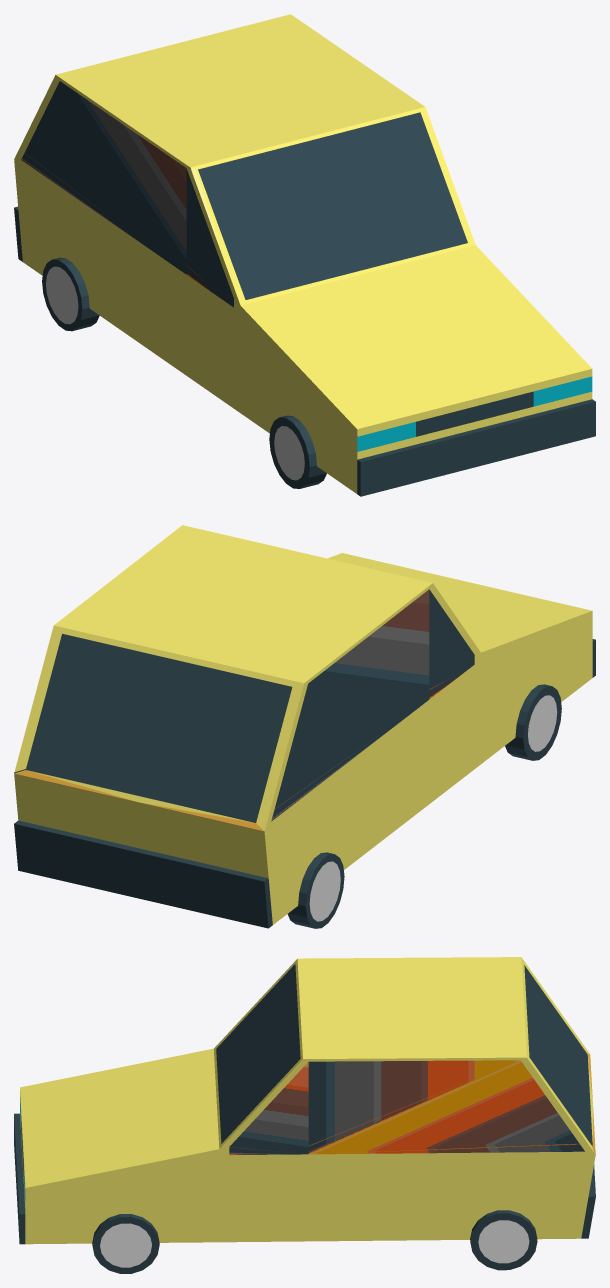
The model's file is car_anim.obj.
The picture shows the model from 3 angles, top to bottom: view 1: azimuth 30°, elevation 25°; view 2: azimuth 150°, elevation 25°; view 3: azimuth 270°, elevation 25°; orthographic projection. The views are drawn at different scales.
Parts seen in each view (by area): view 1: car1; view 2: car1; view 3: car1.
Boxes of the visible parts, x1,y1,x2,y2 form: car1: (14,14,595,496); car1: (14,525,595,928); car1: (14,957,595,1273).
Bounding box in the file's own units: 5.16 × 4.54 × 11.4.
Materials: 1 (1 with a texture image).
